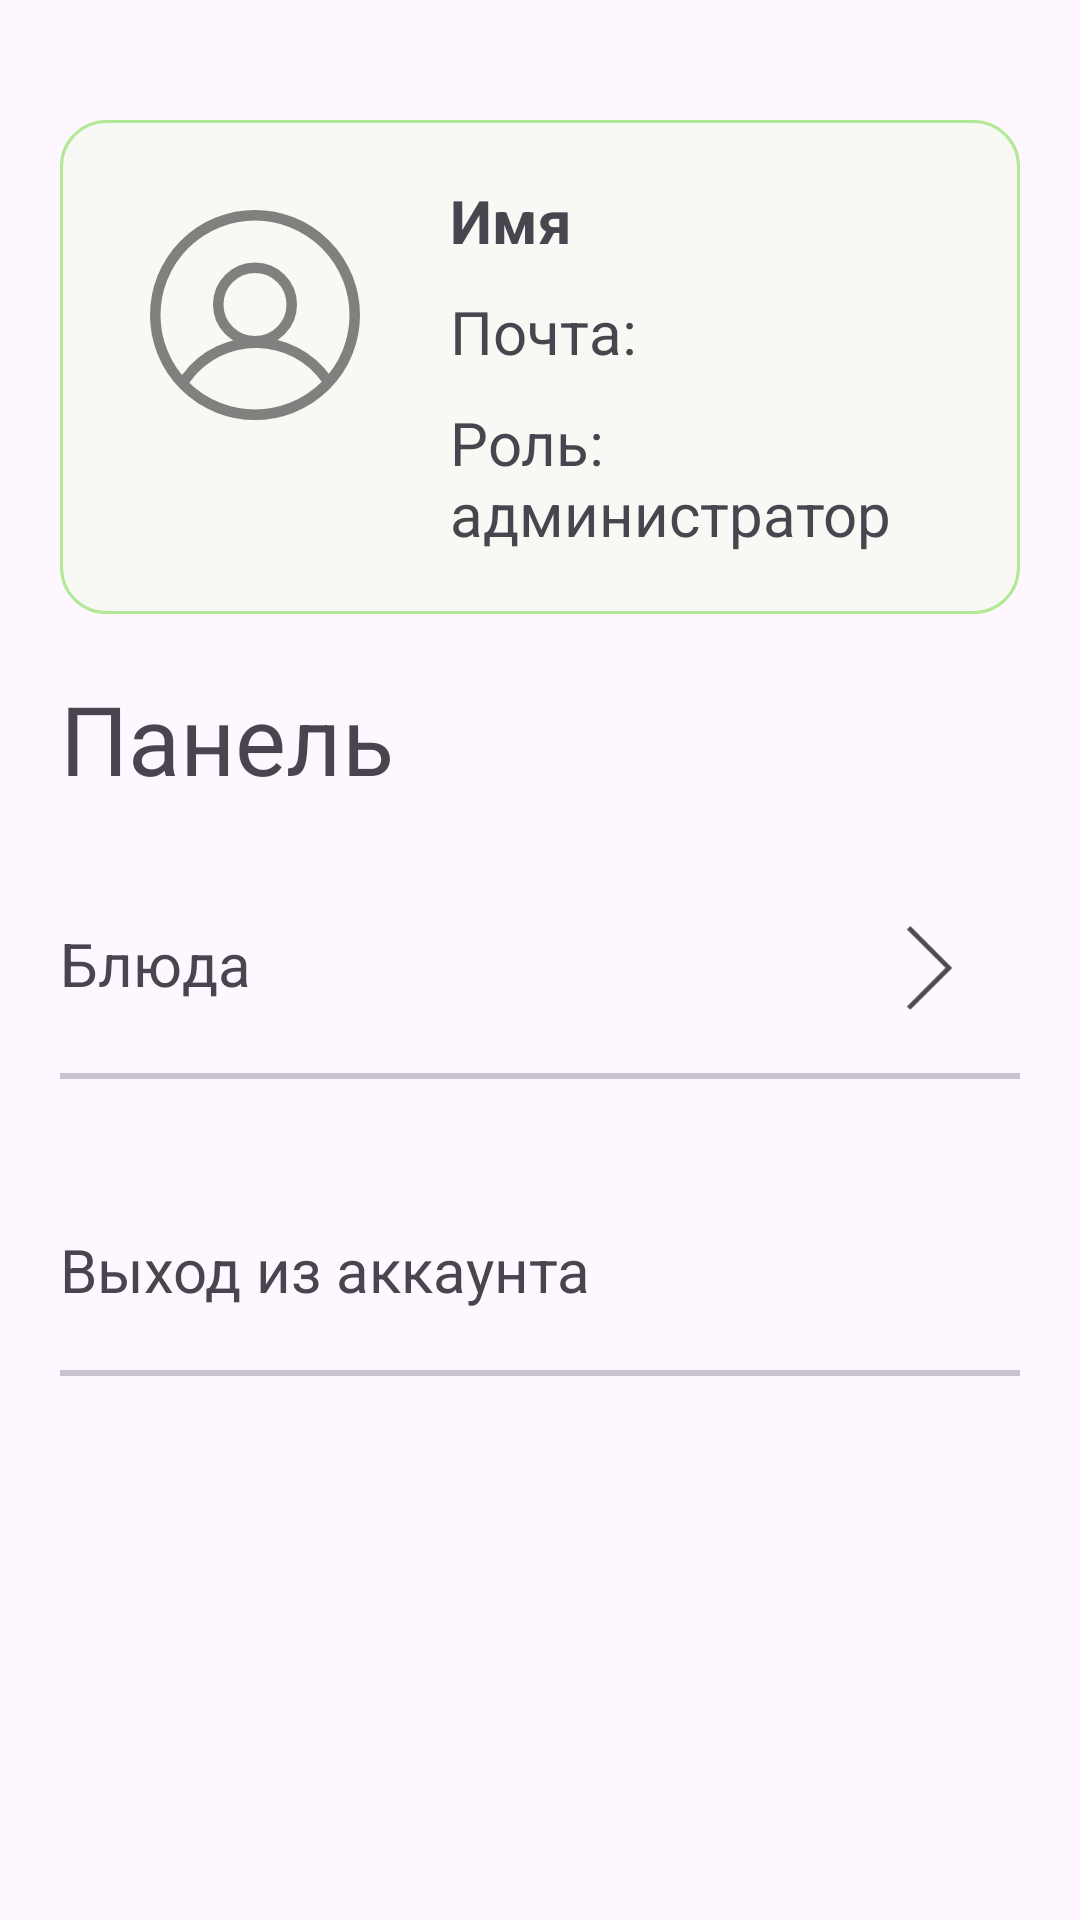

Point at icon controls on the screen. Image size 1080w x 1920h, points as (x=x, y=y).
arrow: (x=929, y=968)
user: (x=255, y=315)
